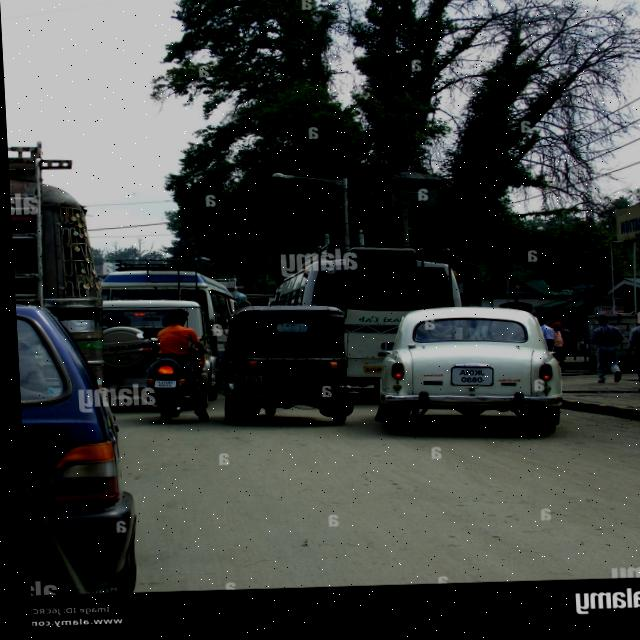plate: (442, 368, 492, 391), (148, 380, 174, 390), (237, 375, 260, 386)
